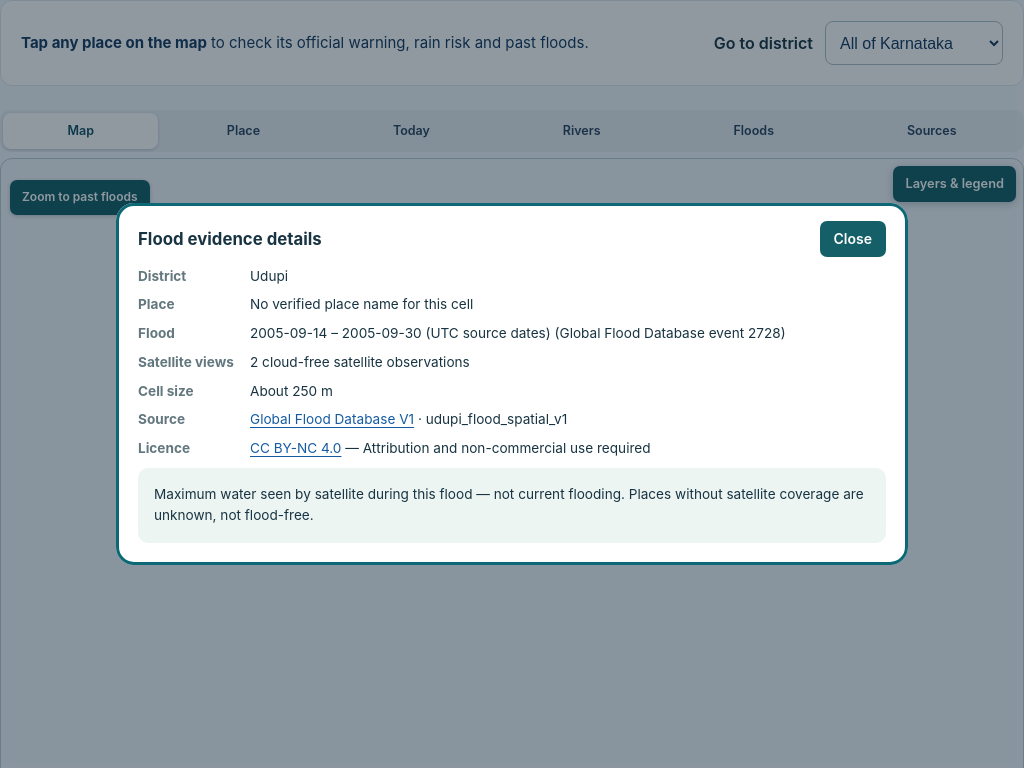
Test case: cell details are plain language and close
expect the heading "Flood evidence details" is shown: met, box [138, 229, 322, 249]
expect the text "No verified place name for this cell" is shown: met, box [250, 296, 473, 312]
Click the button "Close" at (853, 239), box [820, 221, 886, 257]
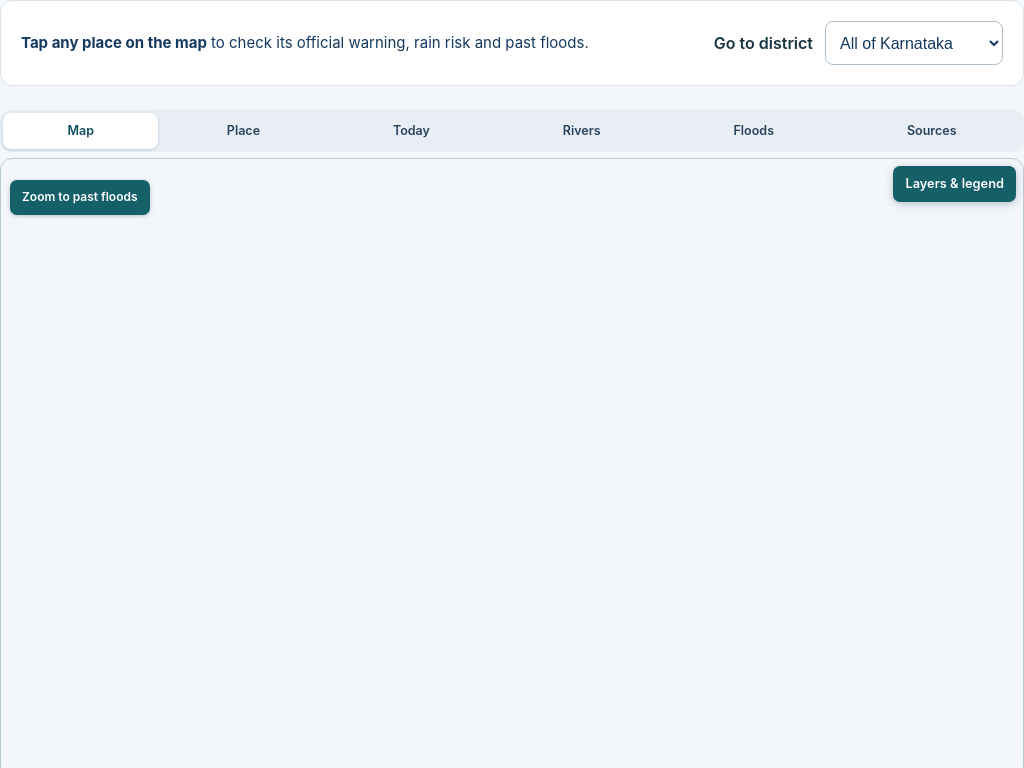
expect the heading "Flood evidence details" is gone: met
